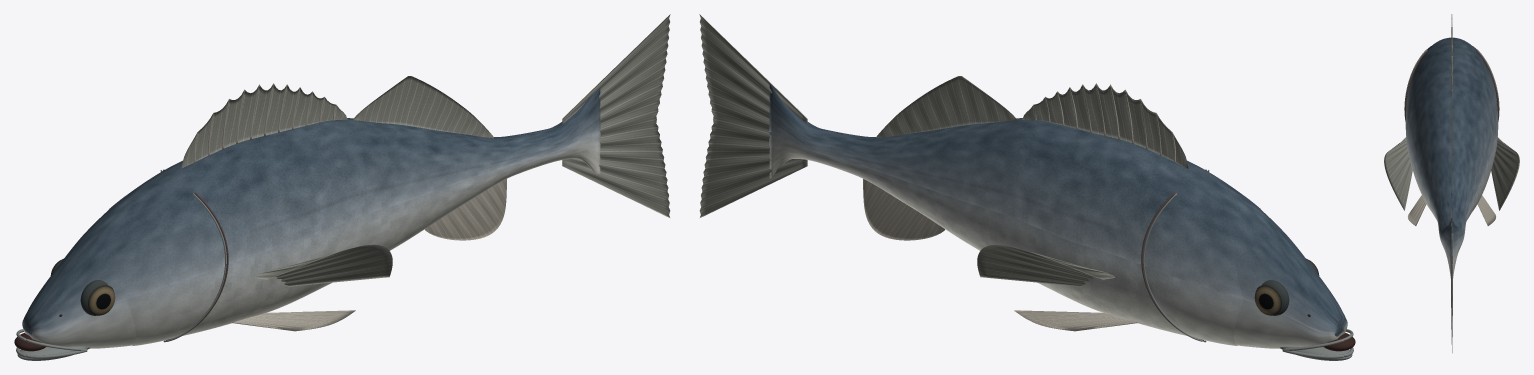
File: SilverFish_BAG.glb
The picture shows the model from 3 angles, left to right: view 1: azimuth 30°, elevation 25°; view 2: azimuth 150°, elevation 25°; view 3: azimuth 270°, elevation 25°; orthographic projection. The views are drawn at different scales.
Visible parts, largest first — view 1: fish.body, fish.gill_cover.left, fish.fin.caudal, fish.fin.dorsal_spiny, fish.fin.dorsal_soft, fish.fin.pectoral.left, fish.fin.anal, fish.fin.pelvic.left, fish.fin.dorsal_spines; view 2: fish.body, fish.gill_cover.right, fish.fin.caudal, fish.fin.dorsal_spiny, fish.fin.dorsal_soft, fish.fin.pectoral.right, fish.fin.anal, fish.fin.pelvic.right, fish.fin.dorsal_spines; view 3: fish.body, fish.fin.pectoral.left, fish.fin.pectoral.right, fish.fin.pelvic.right, fish.fin.pelvic.left, fish.fin.caudal, fish.fin.dorsal_soft, fish.gill_seam.left, fish.gill_seam.right, fish.fin.dorsal_spines.
Part boxes in pixels (left/top/right/bottom): fish.body: left=22, top=88, right=600, bottom=348; fish.gill_cover.left: left=126, top=194, right=226, bottom=345; fish.fin.caudal: left=562, top=14, right=670, bottom=217; fish.fin.dorsal_spiny: left=181, top=83, right=347, bottom=168; fish.fin.dorsal_soft: left=353, top=76, right=493, bottom=138; fish.fin.pectoral.left: left=254, top=244, right=392, bottom=286; fish.fin.anal: left=425, top=179, right=506, bottom=240; fish.fin.pelvic.left: left=232, top=310, right=355, bottom=331; fish.fin.dorsal_spines: left=194, top=83, right=336, bottom=162; fish.body: left=769, top=84, right=1347, bottom=348; fish.gill_cover.right: left=1143, top=194, right=1243, bottom=345; fish.fin.caudal: left=699, top=14, right=807, bottom=217; fish.fin.dorsal_spiny: left=1022, top=83, right=1188, bottom=168; fish.fin.dorsal_soft: left=876, top=76, right=1016, bottom=137; fish.fin.pectoral.right: left=977, top=244, right=1115, bottom=286; fish.fin.anal: left=863, top=179, right=944, bottom=240; fish.fin.pelvic.right: left=1014, top=310, right=1137, bottom=331; fish.fin.dorsal_spines: left=1033, top=83, right=1175, bottom=162; fish.body: left=1405, top=37, right=1498, bottom=278; fish.fin.pectoral.left: left=1384, top=137, right=1412, bottom=210; fish.fin.pectoral.right: left=1491, top=137, right=1519, bottom=210; fish.fin.pelvic.right: left=1477, top=195, right=1495, bottom=225; fish.fin.pelvic.left: left=1408, top=195, right=1426, bottom=225; fish.fin.caudal: left=1451, top=203, right=1452, bottom=352; fish.fin.dorsal_soft: left=1451, top=100, right=1452, bottom=196; fish.gill_seam.left: left=1405, top=50, right=1427, bottom=120; fish.gill_seam.right: left=1476, top=50, right=1498, bottom=120; fish.fin.dorsal_spines: left=1451, top=14, right=1452, bottom=90.
Size of the model in its own units: 0.576 by 0.1971 by 0.1321.
10 materials, 4 textured.
